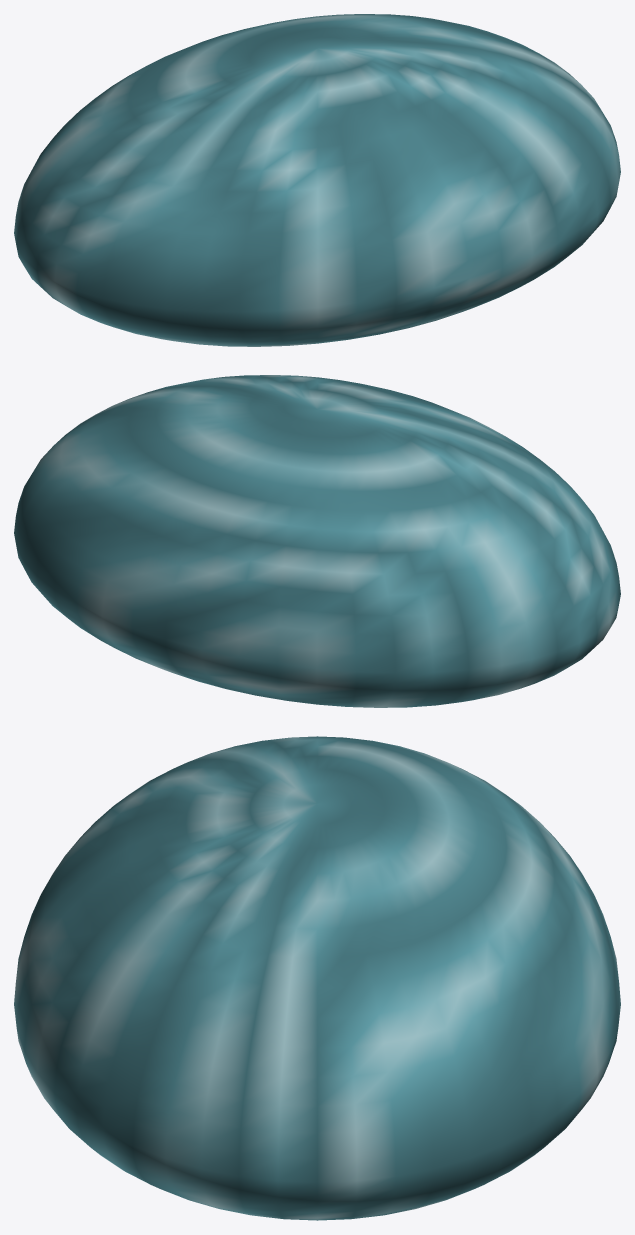
Rendered from jewelry.glb.
3 renders of one model, top to bottom at view 1: azimuth 30°, elevation 25°; view 2: azimuth 150°, elevation 25°; view 3: azimuth 270°, elevation 25°, orthographic. The views are drawn at different scales.
Parts seen in each view (by area): view 1: larimar; view 2: larimar; view 3: larimar.
Part boxes in pixels (<box>): larimar: <box>14,14,620,346</box>; larimar: <box>14,375,620,707</box>; larimar: <box>14,736,620,1220</box>.
Bounding box in the file's own units: 2.36 × 1 × 1.7.
